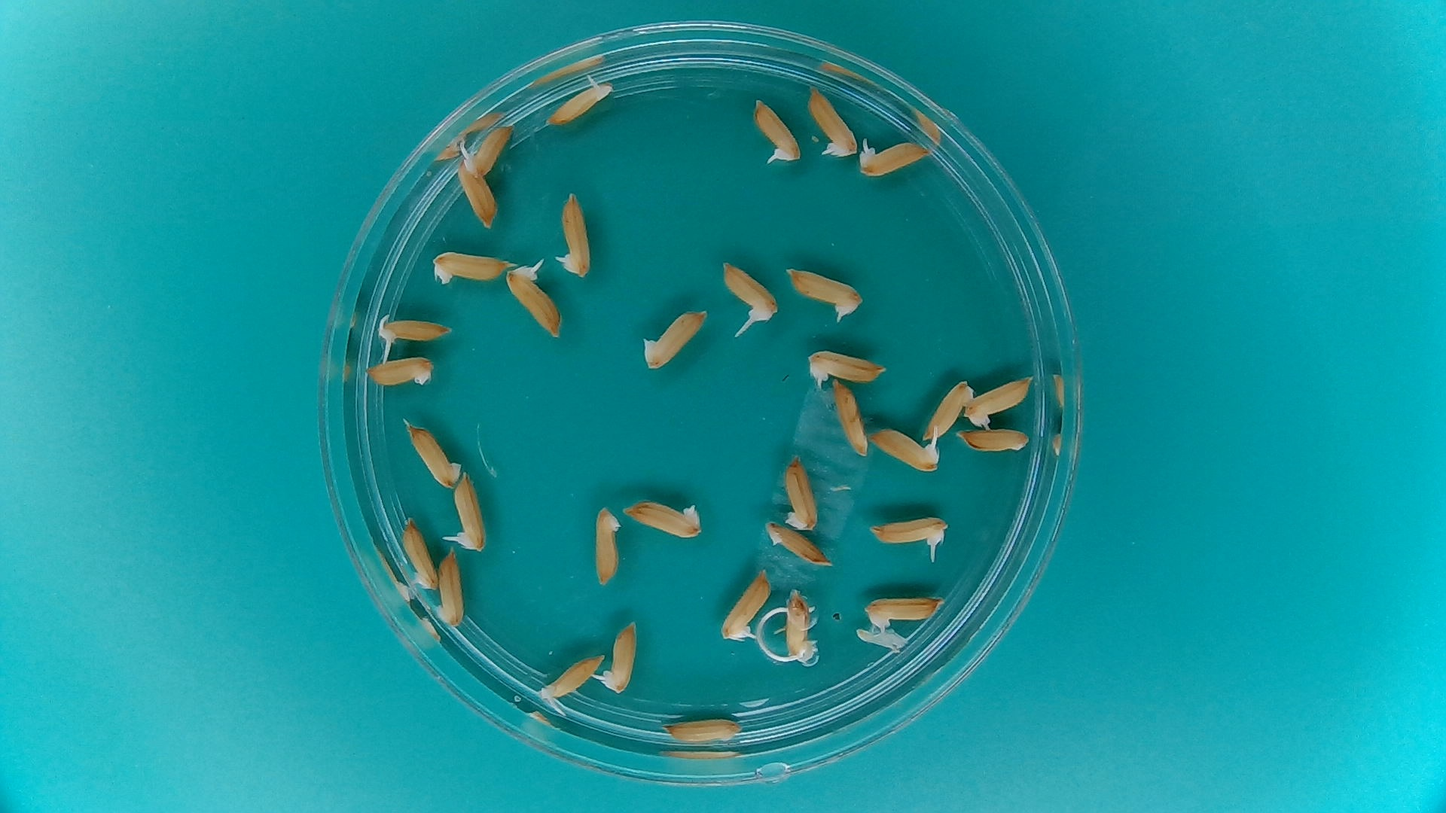no: (637, 303, 712, 373), (619, 494, 707, 540), (404, 422, 461, 490), (922, 375, 975, 443), (779, 451, 821, 534), (397, 513, 440, 594), (657, 712, 747, 748), (861, 592, 941, 630), (832, 382, 871, 459), (432, 248, 511, 286), (590, 501, 623, 588), (762, 525, 828, 568), (454, 158, 496, 224), (363, 352, 438, 388), (435, 550, 469, 629), (956, 429, 1031, 452)
yes: (506, 263, 563, 339), (801, 344, 890, 391), (807, 83, 859, 157), (789, 266, 862, 318), (537, 651, 606, 704), (719, 571, 770, 641), (721, 262, 777, 322), (554, 187, 589, 280), (967, 376, 1032, 423), (548, 80, 612, 127), (876, 427, 941, 473), (752, 104, 800, 165), (779, 587, 814, 670), (453, 470, 488, 553), (464, 120, 514, 178), (854, 139, 926, 179), (605, 615, 639, 695), (872, 518, 947, 551), (377, 315, 450, 346)
